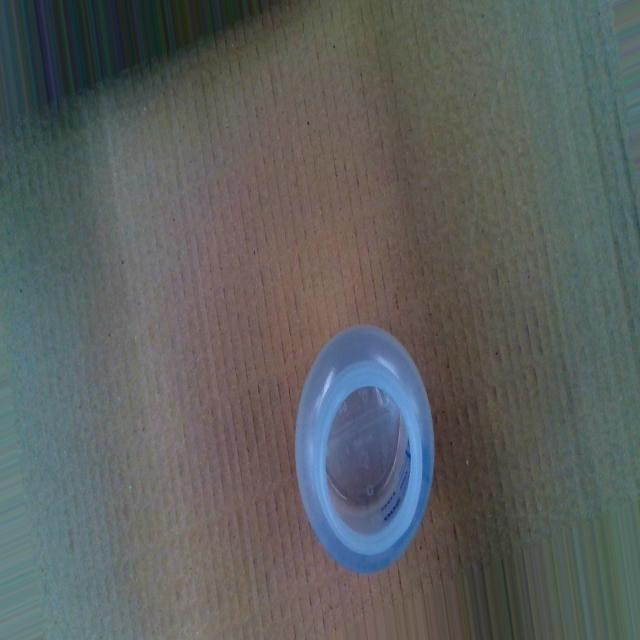bottle: (292, 312, 441, 576)
